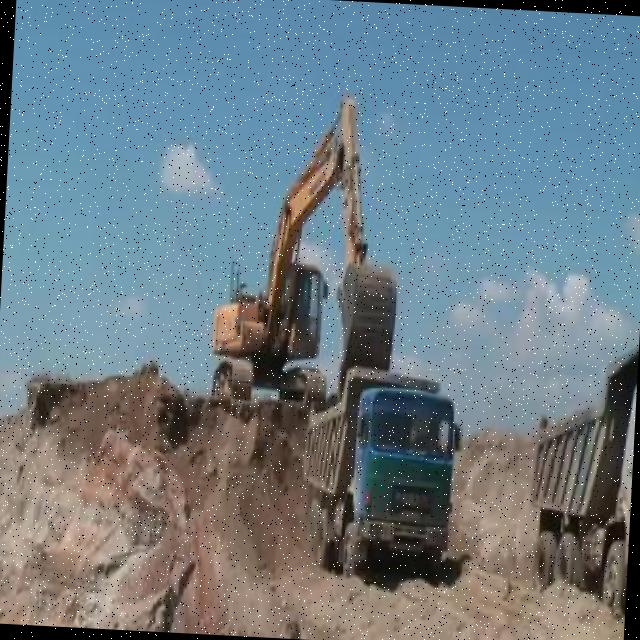Dump Truck: (296, 362, 462, 589), (525, 340, 639, 604)
Excavator: (208, 83, 407, 404)
